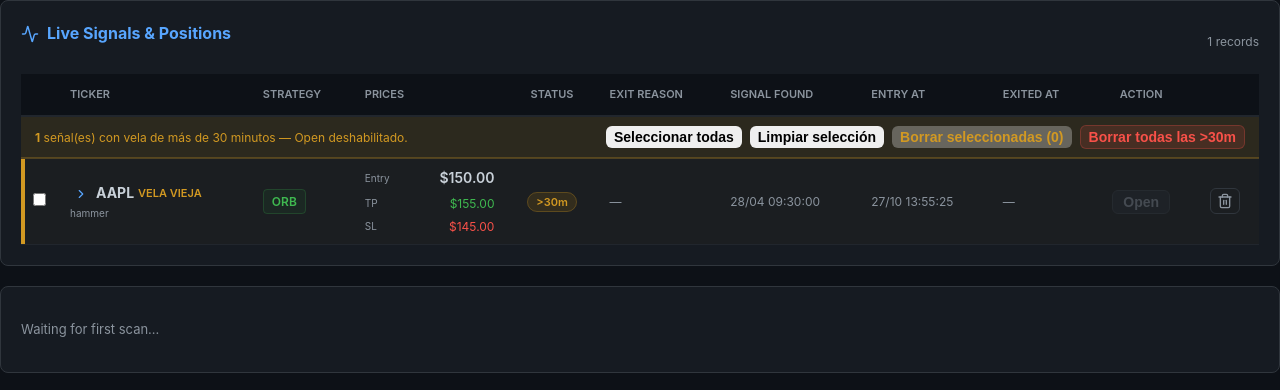
it: LiveTradeGrid — Batch delete de señales stale › "Limpiar selección" desmarca todos los checkboxes
# Select first, then clear
Click the button "Seleccionar todas".
click(674, 137)  # box [606,126,742,148]
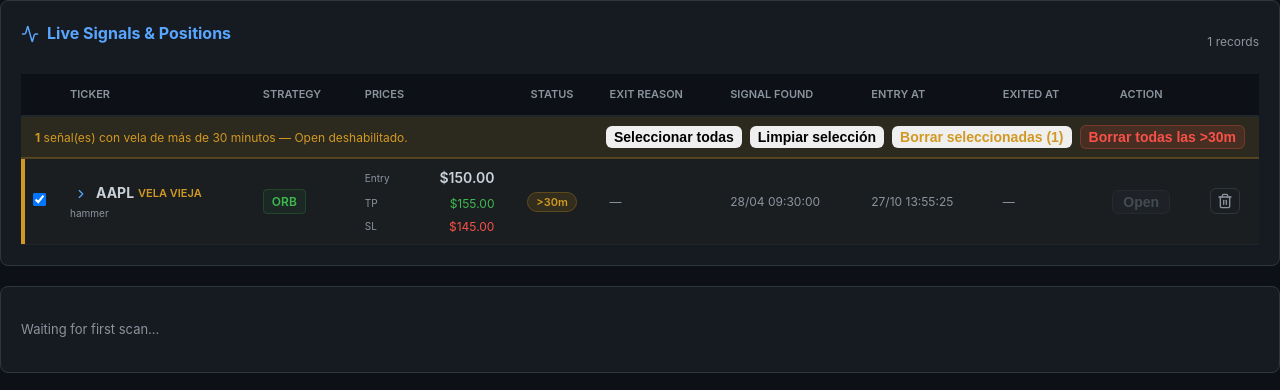
Result: the checkbox named "Seleccionar AAPL" is checked at [33,193,46,206]
Click the button "Limpiar selección".
click(817, 137)  # box [750,126,884,148]
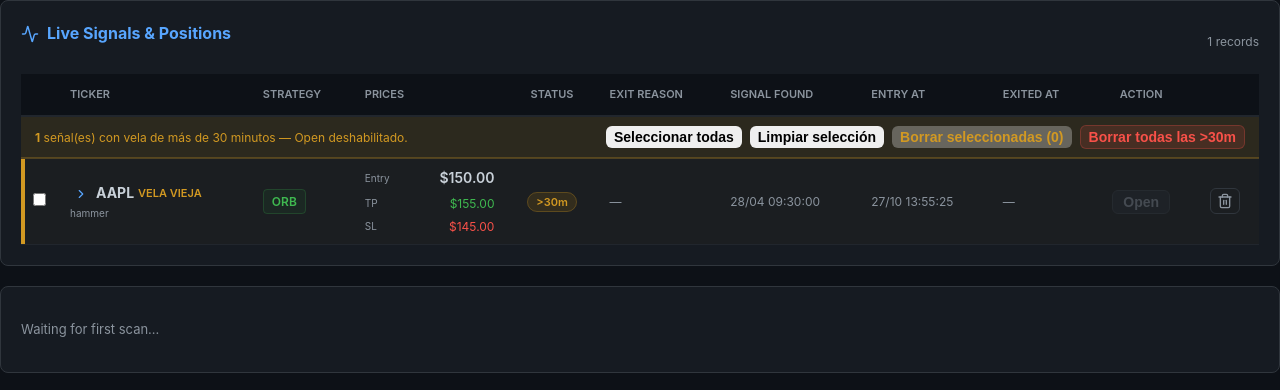
Result: the checkbox named "Seleccionar AAPL" is not checked at [33,193,46,206]
